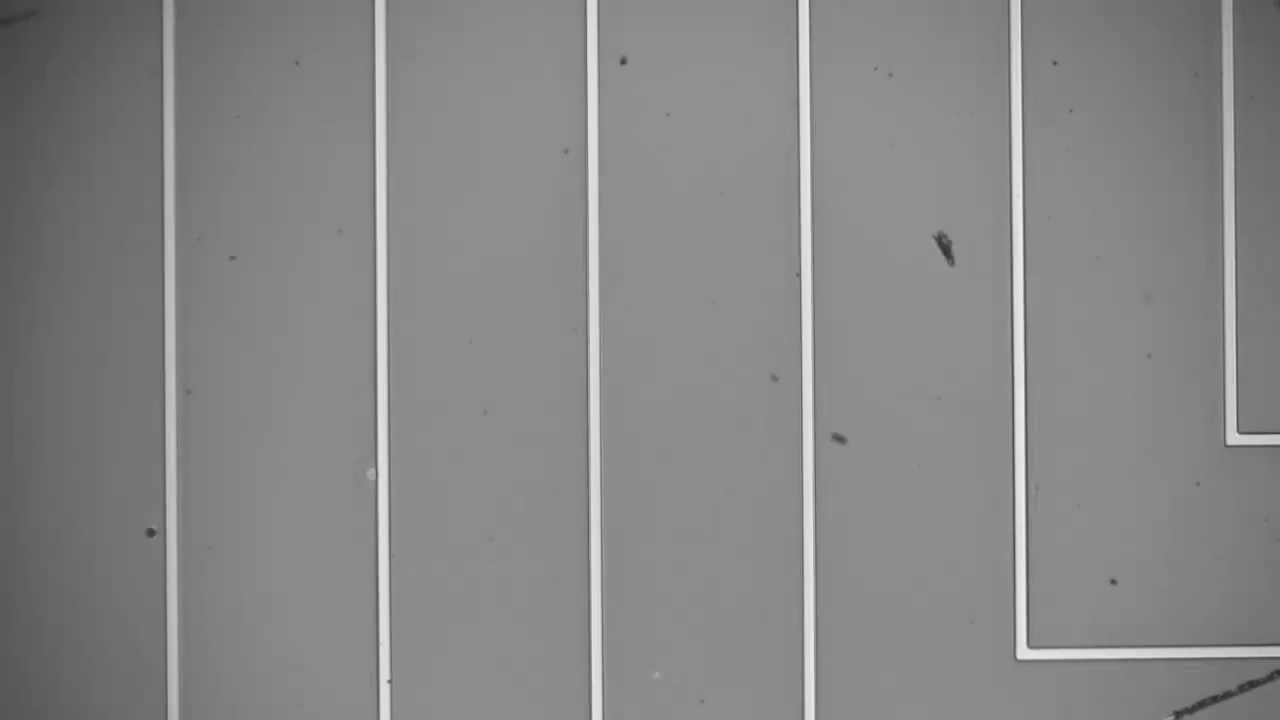scratch: (1160, 666, 1280, 710)
